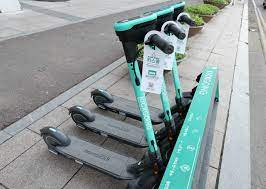kick_body: (63, 141, 128, 177)
kick_wheel: (40, 126, 68, 155), (69, 106, 93, 129), (91, 89, 112, 111)
